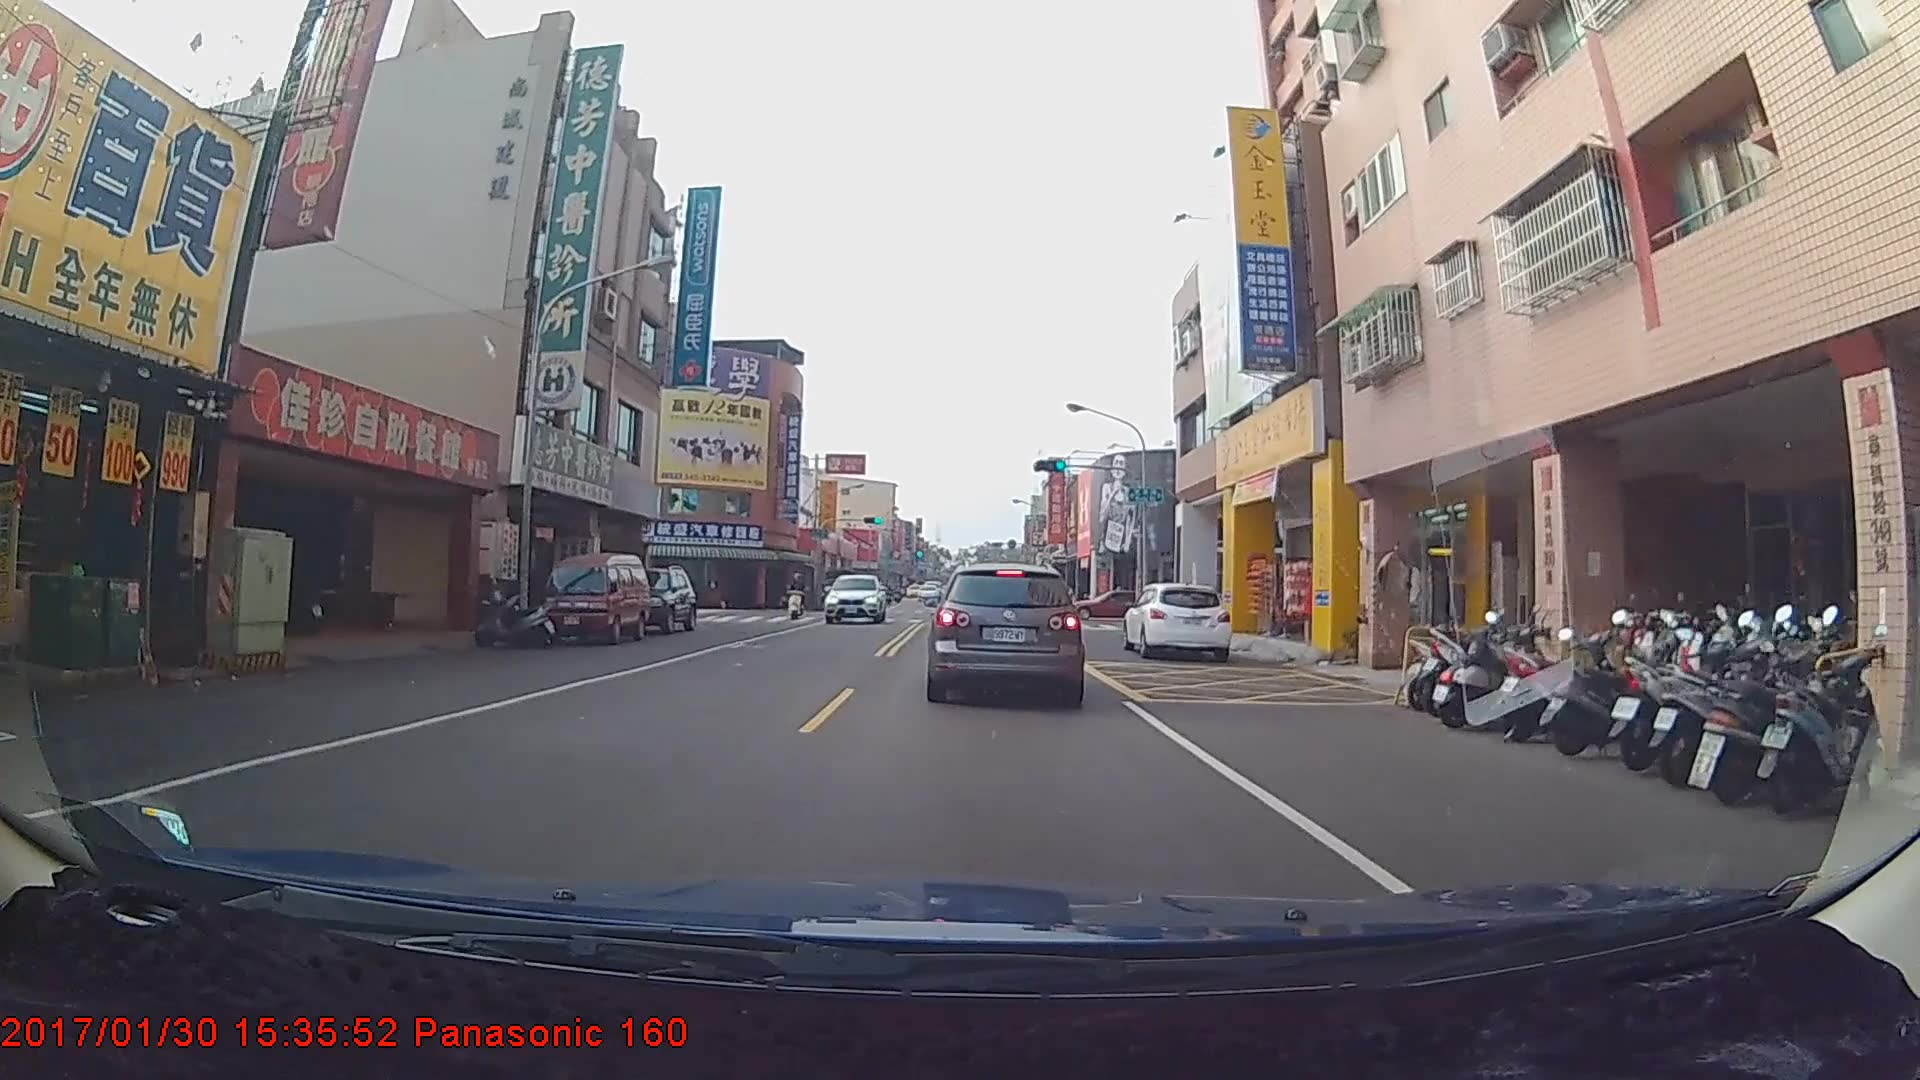rider: (786, 573, 813, 622)
vehicle: (928, 558, 1084, 703), (539, 553, 650, 646), (1122, 580, 1231, 663), (613, 563, 698, 634), (822, 567, 883, 619), (1063, 591, 1160, 620)
